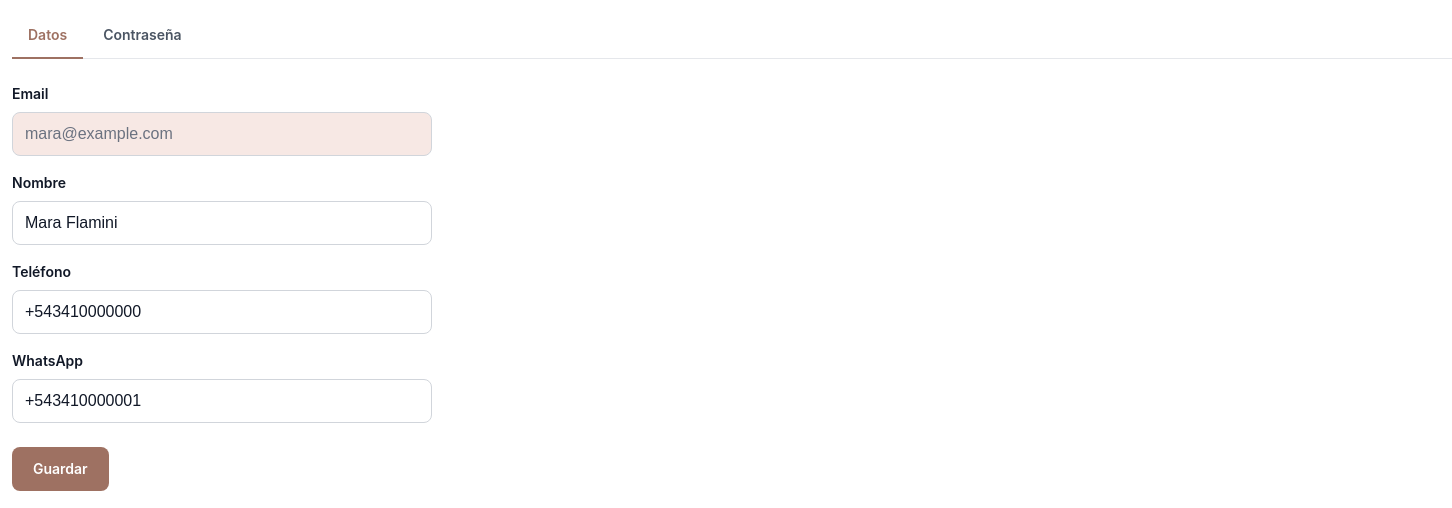
Scenario: ProfileTabs › starts on the profile tab and switches to the password tab
Expected: the field labelled "WhatsApp" is shown, x1=12 y1=379 x2=432 y2=423
Click the tab "Contraseña": (142, 36) x1=87 y1=12 x2=198 y2=59
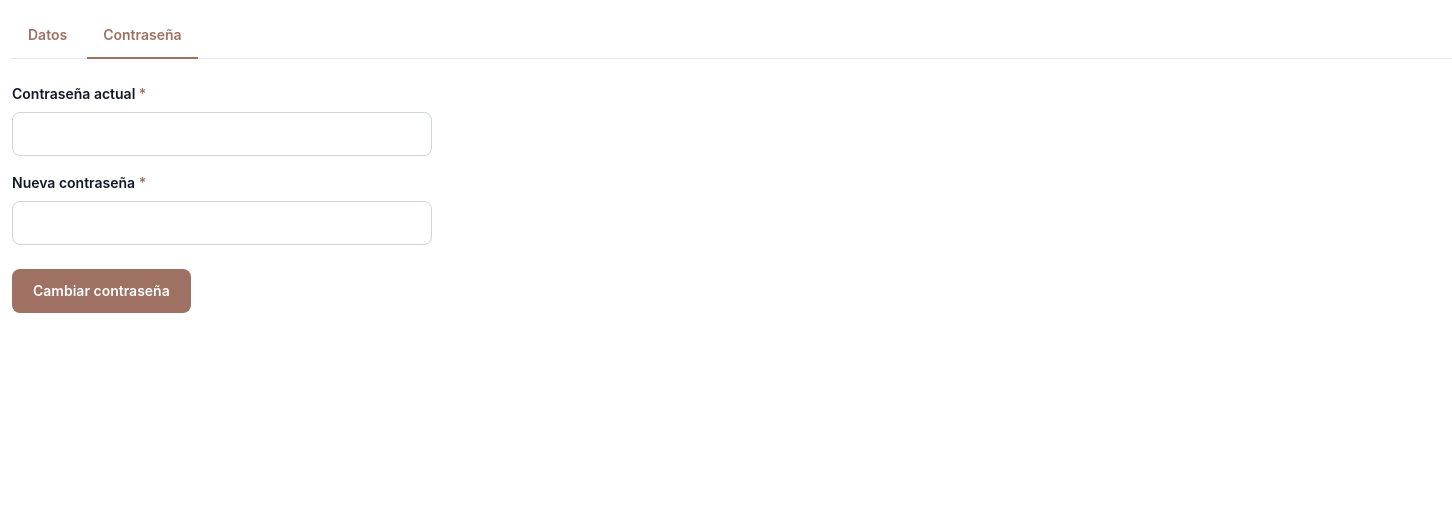
Expected: the password field labelled "Nueva contraseña *" is shown, x1=12 y1=201 x2=432 y2=245
